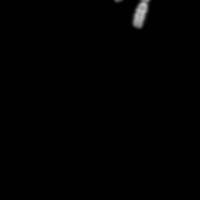chromosome: (131, 0, 153, 28), (111, 0, 122, 2)
